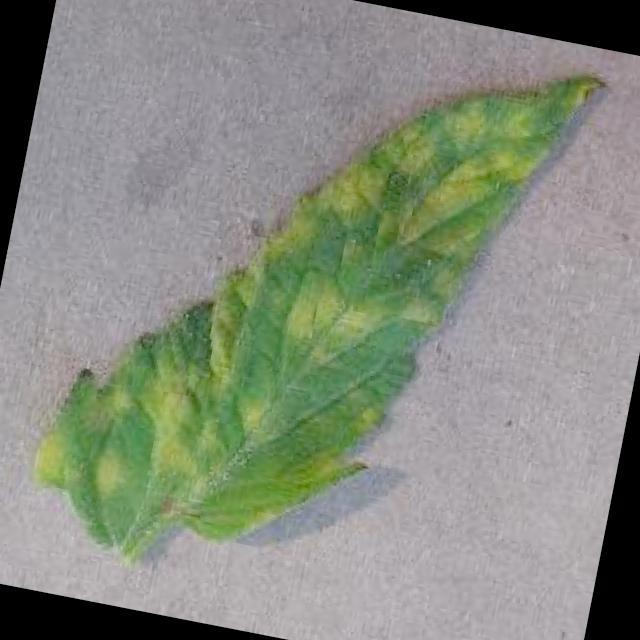Tomato healthy leaf: (19, 0, 606, 634)
